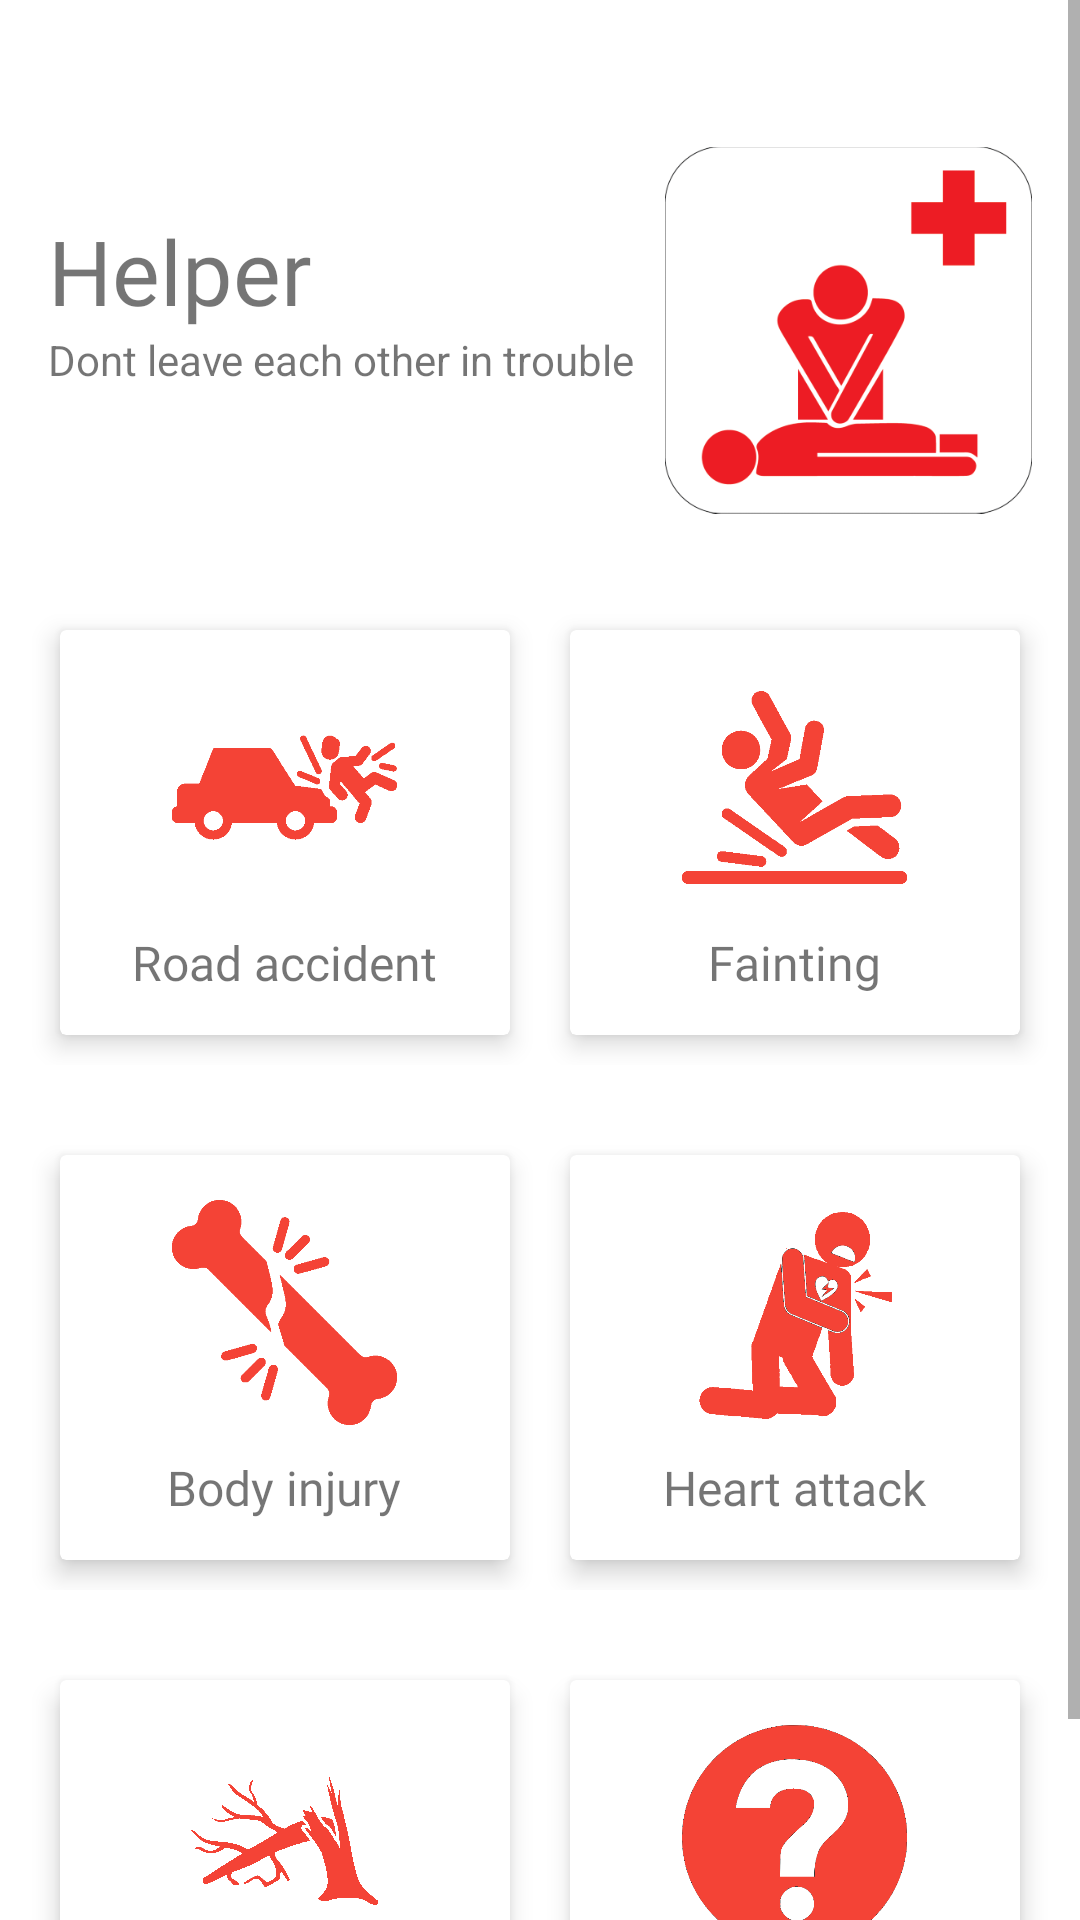

Icons on this 1080 × 1920 Android screen, each with the point to tap as point (x, y):
bone: point (284, 1312)
